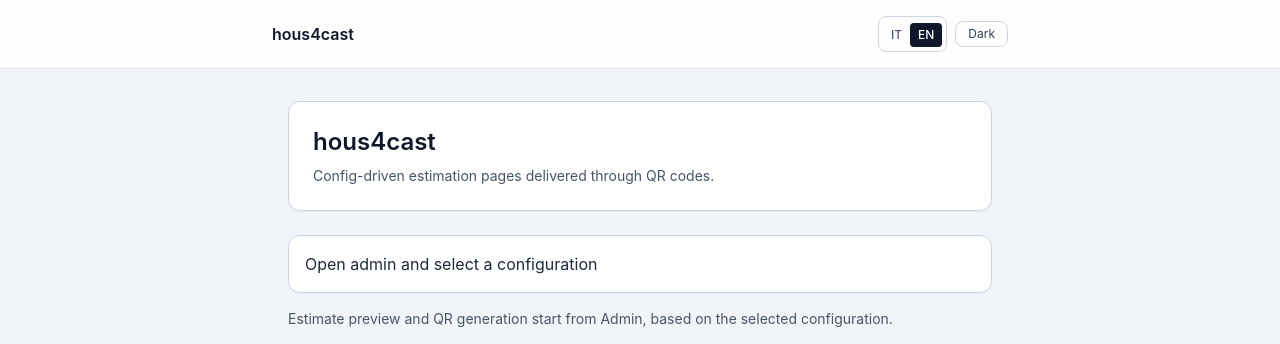
Scenario: App shell › switches locale from top bar and persists it
What coordinates should you click on to do the following:
click the button with aria-label "Italiano"
I would click on:
 (896, 35)
Its box is [883,23,910,47].
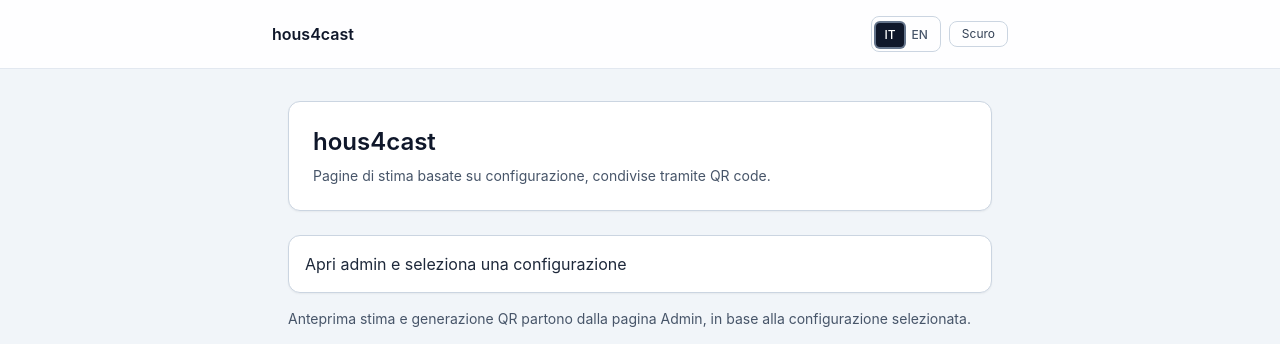
Now the element named "Selettore lingua" is shown, box [871,16,941,52]
